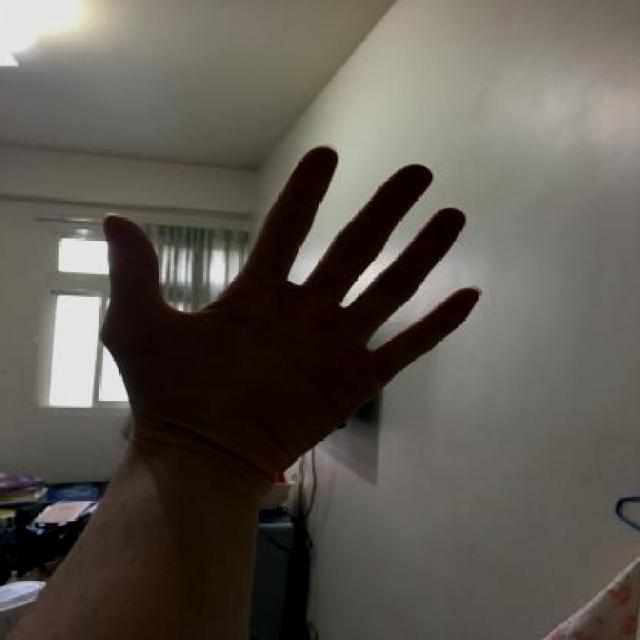no_glove: (88, 134, 495, 512)
